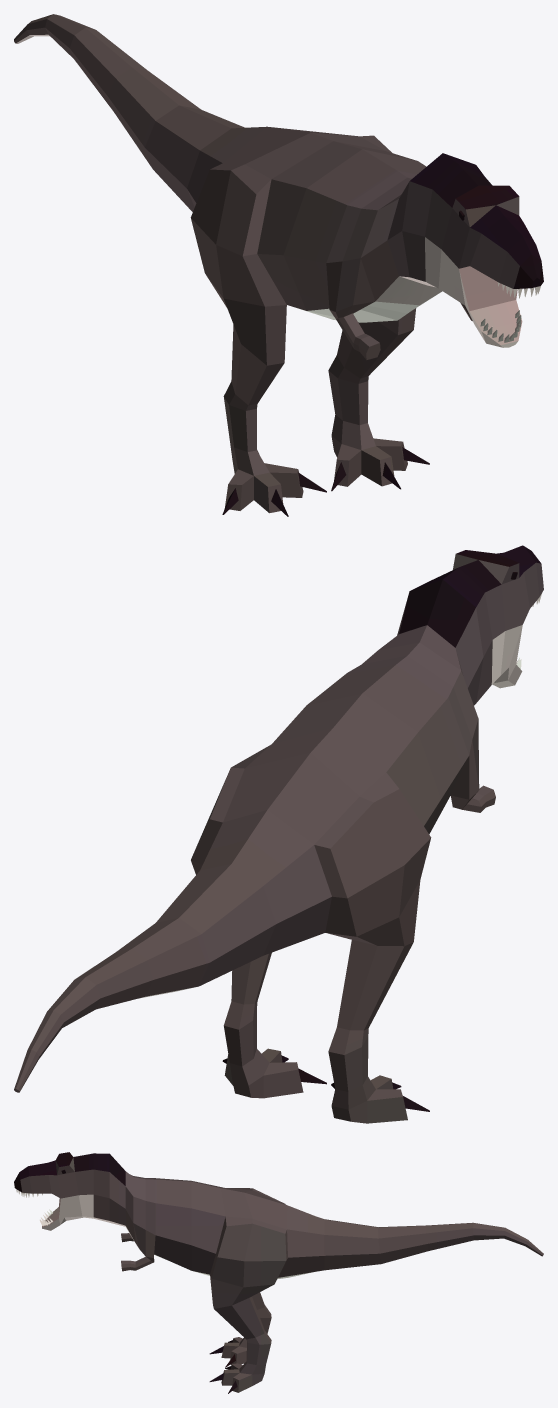
File: animals-t-rex-195.glb
The picture shows the model from 3 angles, top to bottom: view 1: azimuth 30°, elevation 25°; view 2: azimuth 150°, elevation 25°; view 3: azimuth 270°, elevation 25°; orthographic projection. The views are drawn at different scales.
Parts seen in each view (by area): view 1: Geo_Dinosaur; view 2: Geo_Dinosaur; view 3: Geo_Dinosaur.
Boxes of the visible parts, x1=… form: Geo_Dinosaur: x1=14, y1=14, x2=543, y2=516; Geo_Dinosaur: x1=14, y1=545, x2=543, y2=1123; Geo_Dinosaur: x1=14, y1=1152, x2=543, y2=1393.
Size of the model in its own units: 125 by 245 by 542.
Materials: 1 (1 with a texture image).
